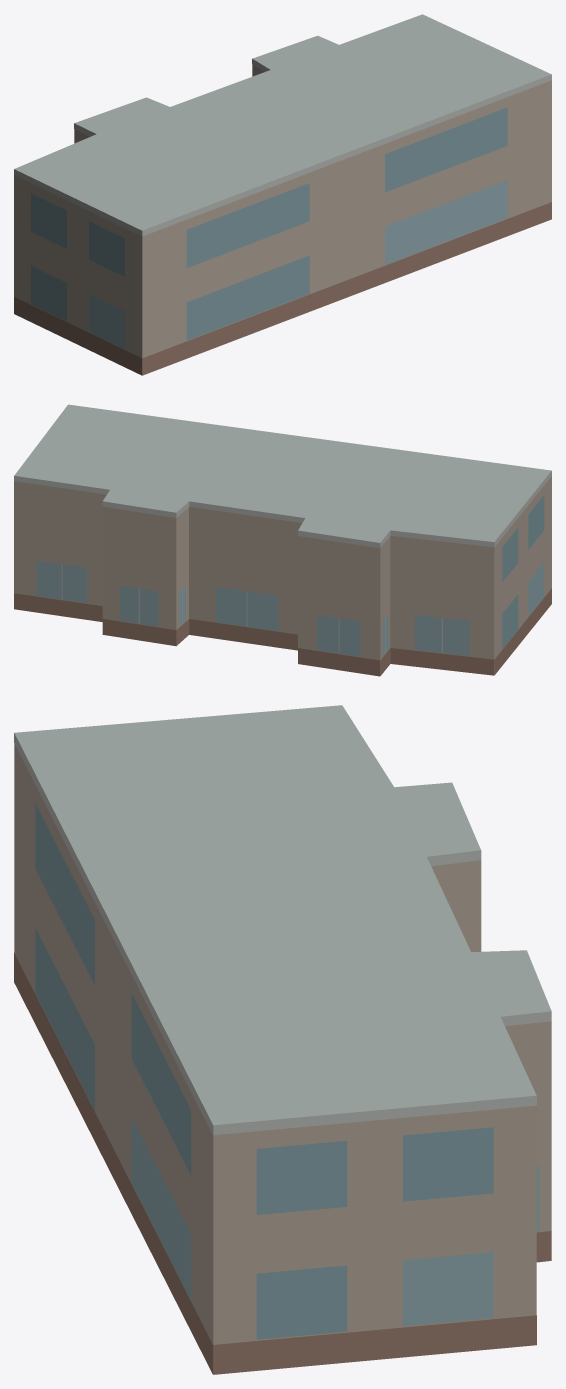
The model's file is survey-upis-32614070.glb.
3 views of the same model, one above another, from view 1: azimuth 30°, elevation 25°; view 2: azimuth 150°, elevation 25°; view 3: azimuth 270°, elevation 25° (orthographic). The views are drawn at different scales.
Visible parts, largest first — view 1: survey-upis-32614070.tmp; view 2: survey-upis-32614070.tmp; view 3: survey-upis-32614070.tmp.
Boxes of the visible parts, left/top/right/bottom form: survey-upis-32614070.tmp: left=14, top=14, right=551, bottom=375; survey-upis-32614070.tmp: left=14, top=404, right=551, bottom=676; survey-upis-32614070.tmp: left=14, top=705, right=551, bottom=1374.
Bounding box in the file's own units: 22.05 × 6.1 × 11.93.
